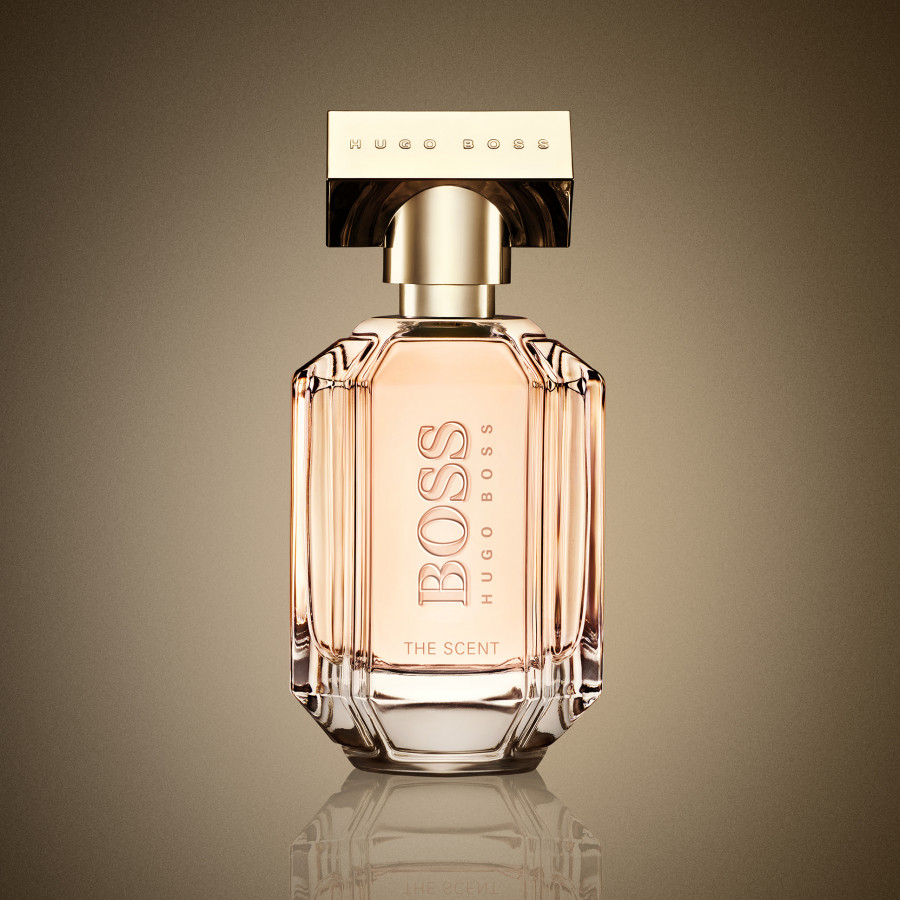Hugo Boss: (474, 418, 507, 611), (342, 137, 558, 154)
